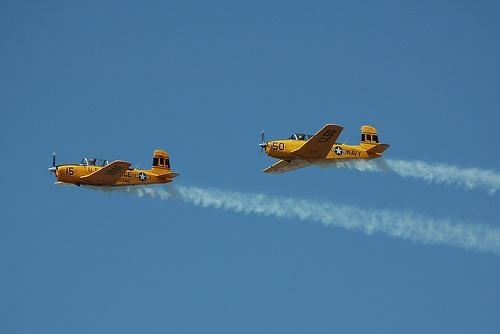aeroplane: (260, 124, 392, 176), (48, 149, 181, 189)
